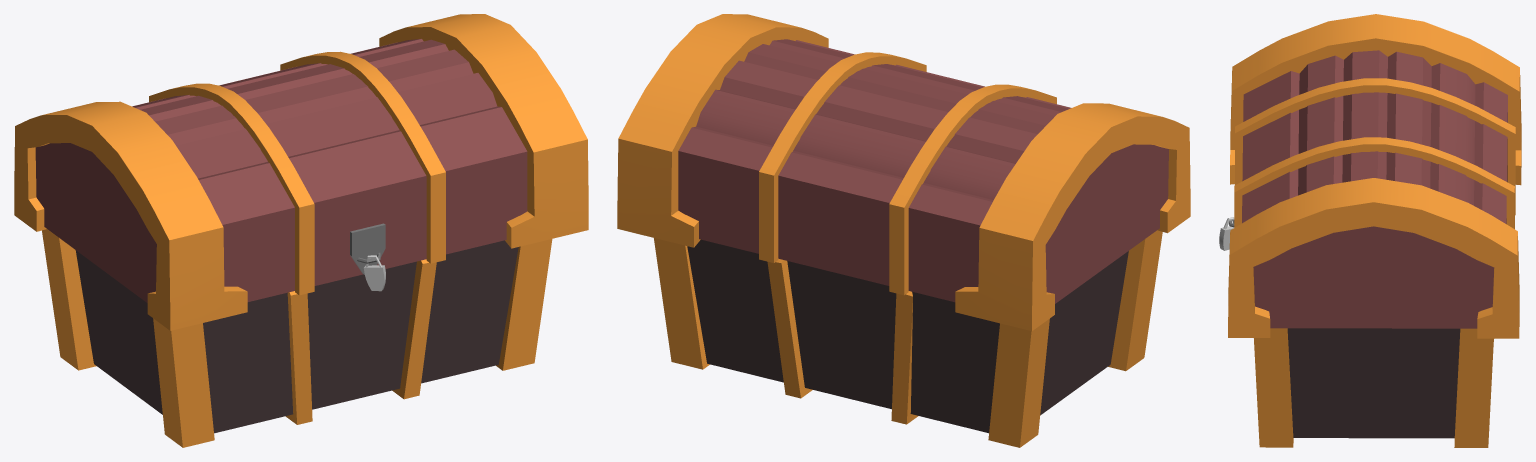
Rendered from Chest.fbx.
3 renders of one model, left to right at view 1: azimuth 30°, elevation 25°; view 2: azimuth 150°, elevation 25°; view 3: azimuth 270°, elevation 25°, orthographic. The views are drawn at different scales.
Parts seen in each view (by area): view 1: Chest, ChestB; view 2: Chest, ChestB; view 3: Chest, ChestB.
Part boxes in pixels (<box>): Chest: <box>14,14,588,330</box>; ChestB: <box>42,229,552,447</box>; Chest: <box>617,14,1190,331</box>; ChestB: <box>654,230,1162,447</box>; Chest: <box>1219,14,1521,338</box>; ChestB: <box>1254,328,1493,447</box>.
Bounding box in the file's own units: 166 × 110 × 113.
Materials: 1 (1 with a texture image).
